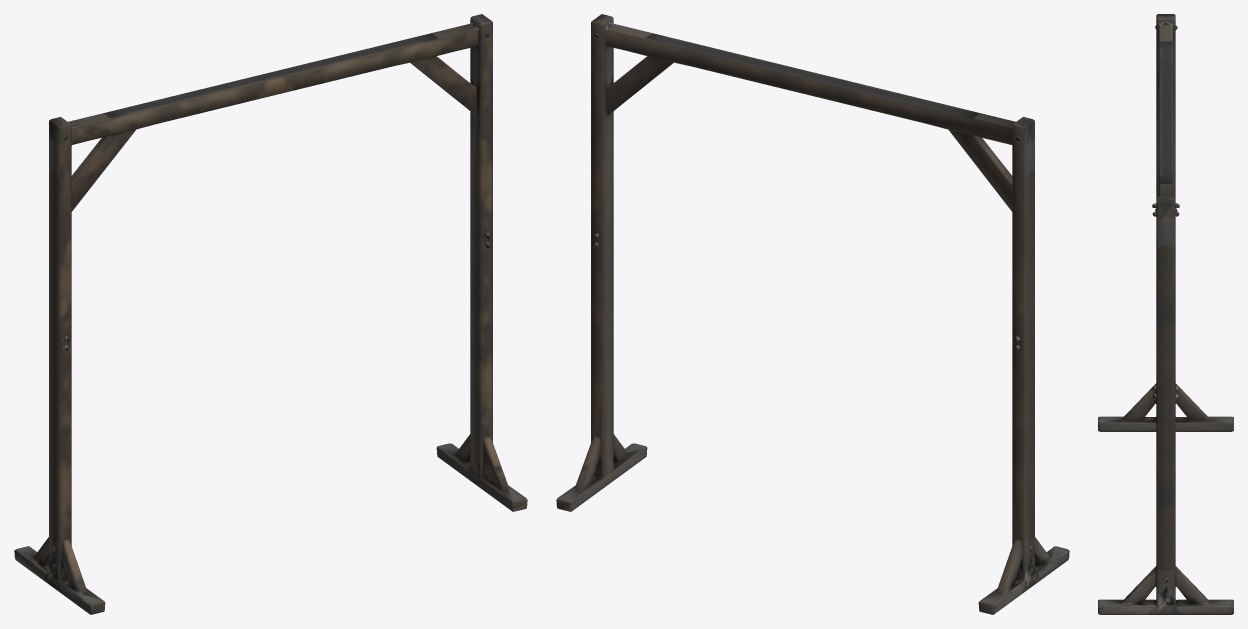
Rendered from Wooden_Classic_Arch_7ftTall_0208184559_texture.glb.
The picture shows the model from 3 angles, left to right: view 1: azimuth 30°, elevation 25°; view 2: azimuth 150°, elevation 25°; view 3: azimuth 270°, elevation 25°; orthographic projection. The views are drawn at different scales.
Parts seen in each view (by area): view 1: Mesh_0; view 2: Mesh_0; view 3: Mesh_0.
Boxes of the visible parts, left/top/right/bottom form: Mesh_0: left=14, top=14, right=527, bottom=614; Mesh_0: left=556, top=14, right=1069, bottom=614; Mesh_0: left=1098, top=14, right=1233, bottom=614.
Size of the model in its own units: 2.1 by 2.13 by 0.6353.
Materials: 1 (1 with a texture image).
